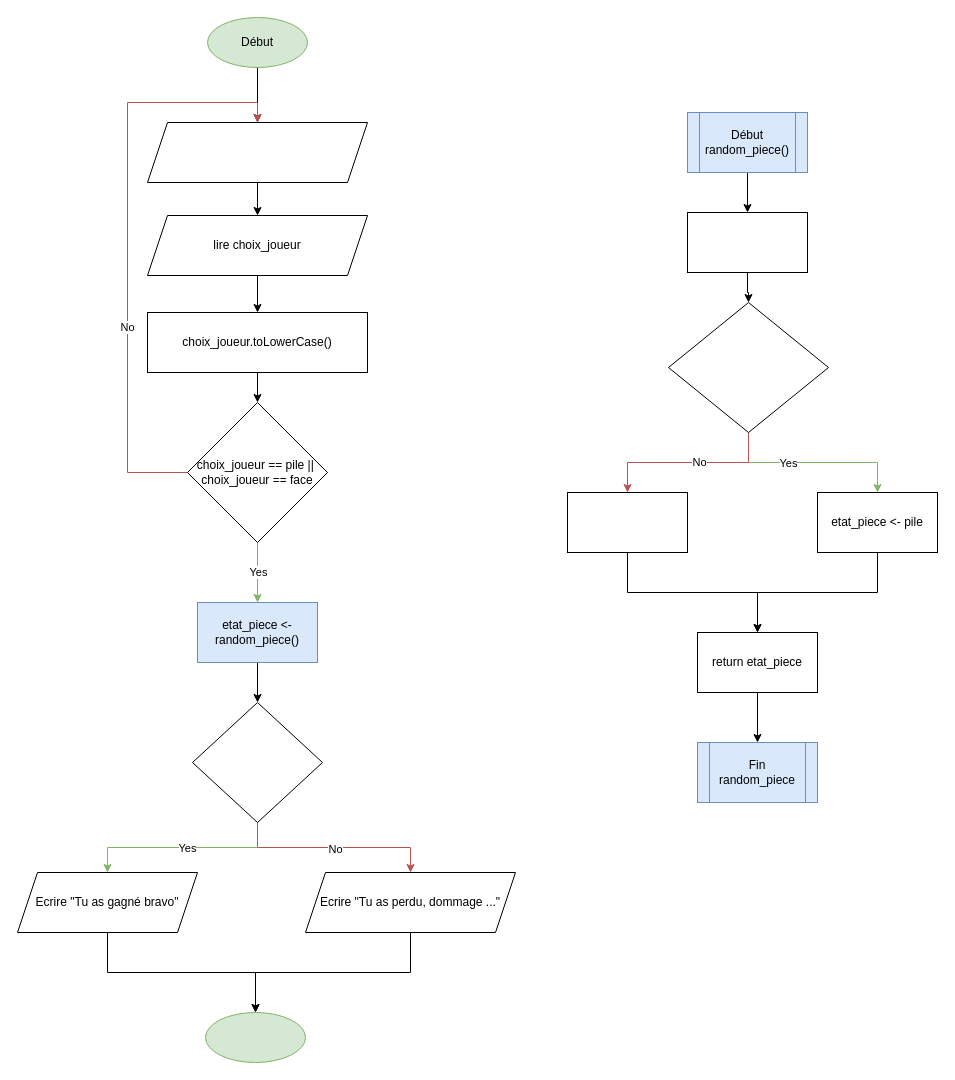
Some shapes in this 955 by 1080 pixel diagram are drawn without their labels. Here are the shapes that lost their labels. From the top down, the centre of each, then its label:
pixel 257 152: ecrire " Pile ou Face ?"
pixel 747 242: etat_piece <- Choisir un nombre aléatoire entre 1 et 2
pixel 748 367: etat_piece == 1
pixel 627 522: etat_piece <- face
pixel 257 762: etat_piece == choix_joueur ?
pixel 255 1037: Fin
